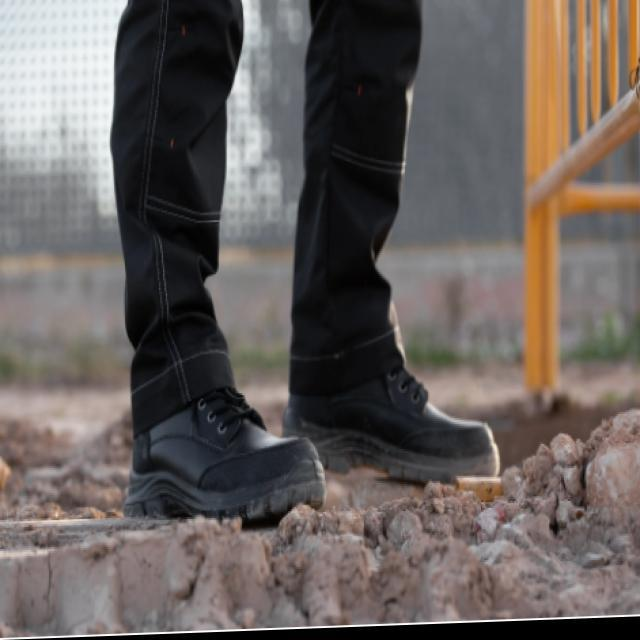boots: (122, 287, 502, 528)
